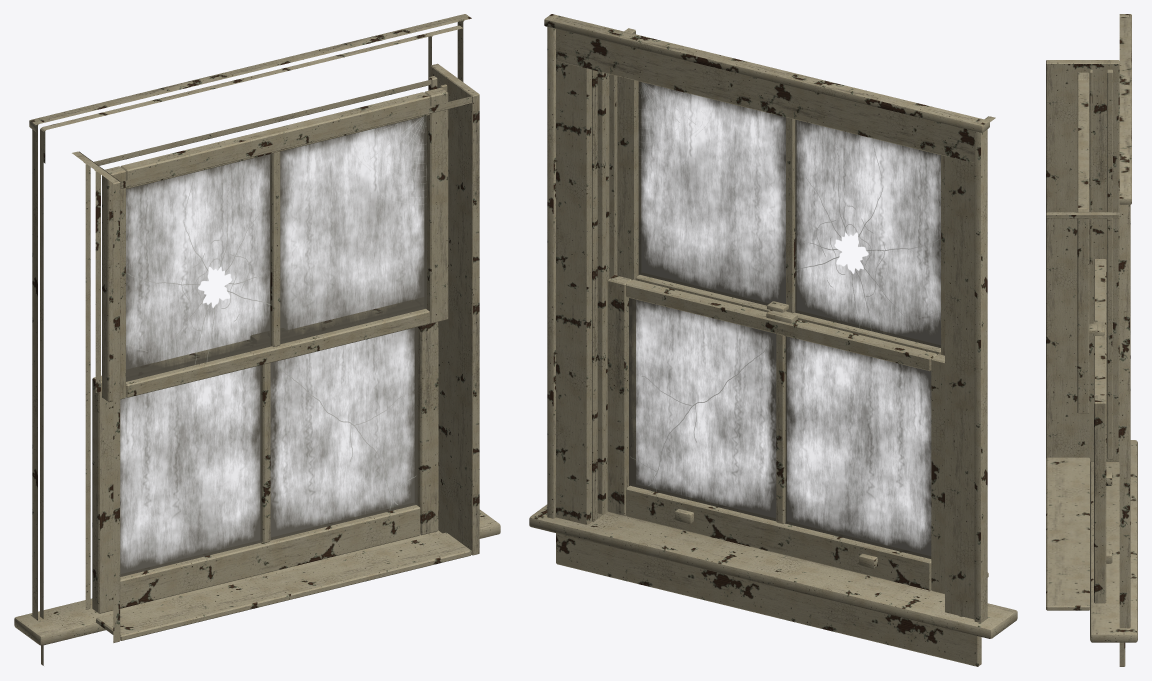
Rendered from window_frame.glb.
3 renders of one model, left to right at view 1: azimuth 30°, elevation 25°; view 2: azimuth 150°, elevation 25°; view 3: azimuth 270°, elevation 25°, orthographic. The views are drawn at different scales.
Visible parts, largest first — view 1: glass, window_frame; view 2: window_frame, glass; view 3: window_frame.
Boxes of the visible parts, bbox=[...] form: glass: bbox=[120, 116, 426, 576]; window_frame: bbox=[14, 14, 500, 665]; window_frame: bbox=[529, 14, 1017, 666]; glass: bbox=[629, 81, 940, 558]; window_frame: bbox=[1046, 14, 1137, 666].
Bounding box in the file's own units: 1.26 × 1.42 × 0.25.
2 materials, 2 textured.
